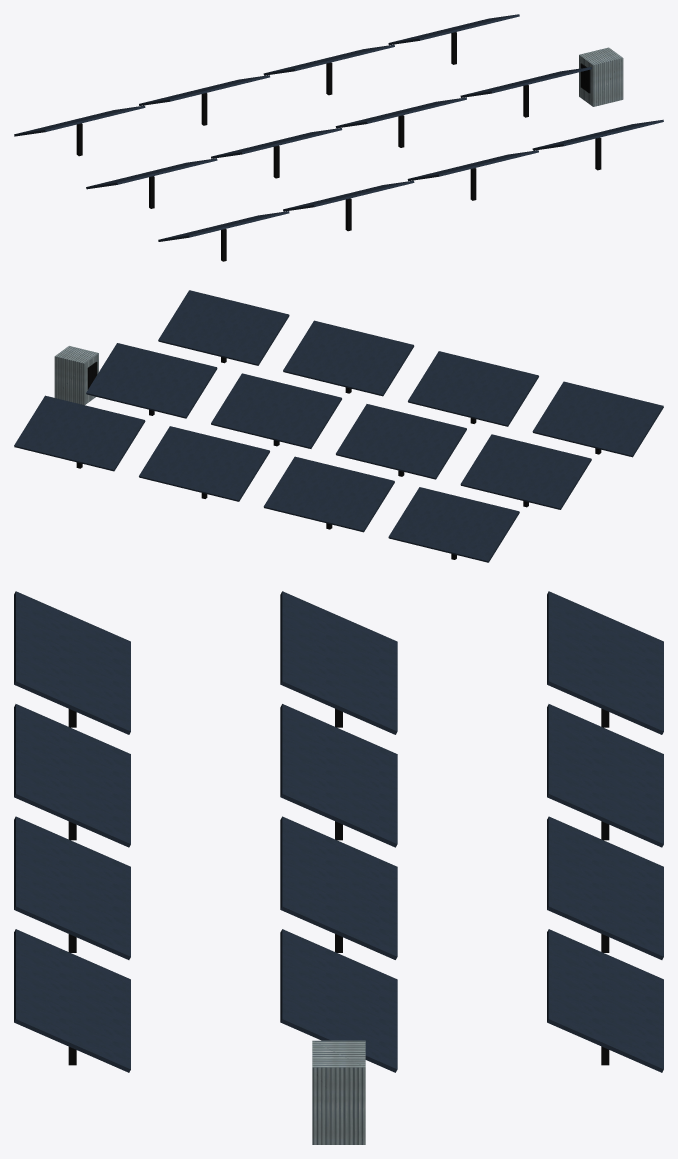
File: solar_farm_01.glb
3 renders of one model, top to bottom at view 1: azimuth 30°, elevation 25°; view 2: azimuth 150°, elevation 25°; view 3: azimuth 270°, elevation 25°, orthographic. The views are drawn at different scales.
Parts seen in each view (by area): view 1: solar_farm_01; view 2: solar_farm_01; view 3: solar_farm_01.
Boxes of the visible parts, x1,y1,x2,y2 form: solar_farm_01: [14, 14, 663, 261]; solar_farm_01: [14, 290, 663, 562]; solar_farm_01: [14, 591, 663, 1144].
Size of the model in its own units: 20.6 by 1.86 by 12.2.
Materials: 3 (3 with a texture image).
